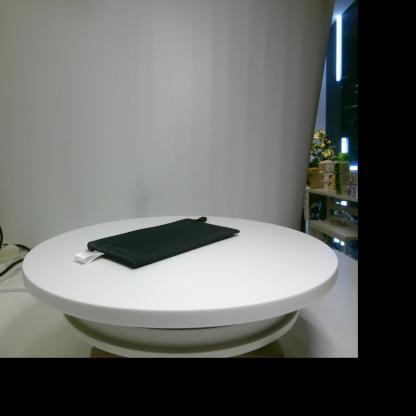Stationery: (74, 216, 240, 269)
